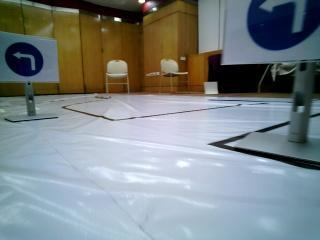left: (228, 0, 320, 58), (1, 39, 55, 81)
